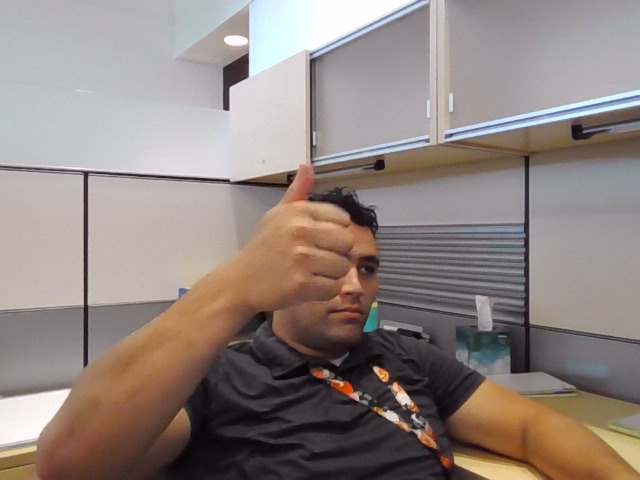ThumbsUp: (254, 159, 354, 308)
